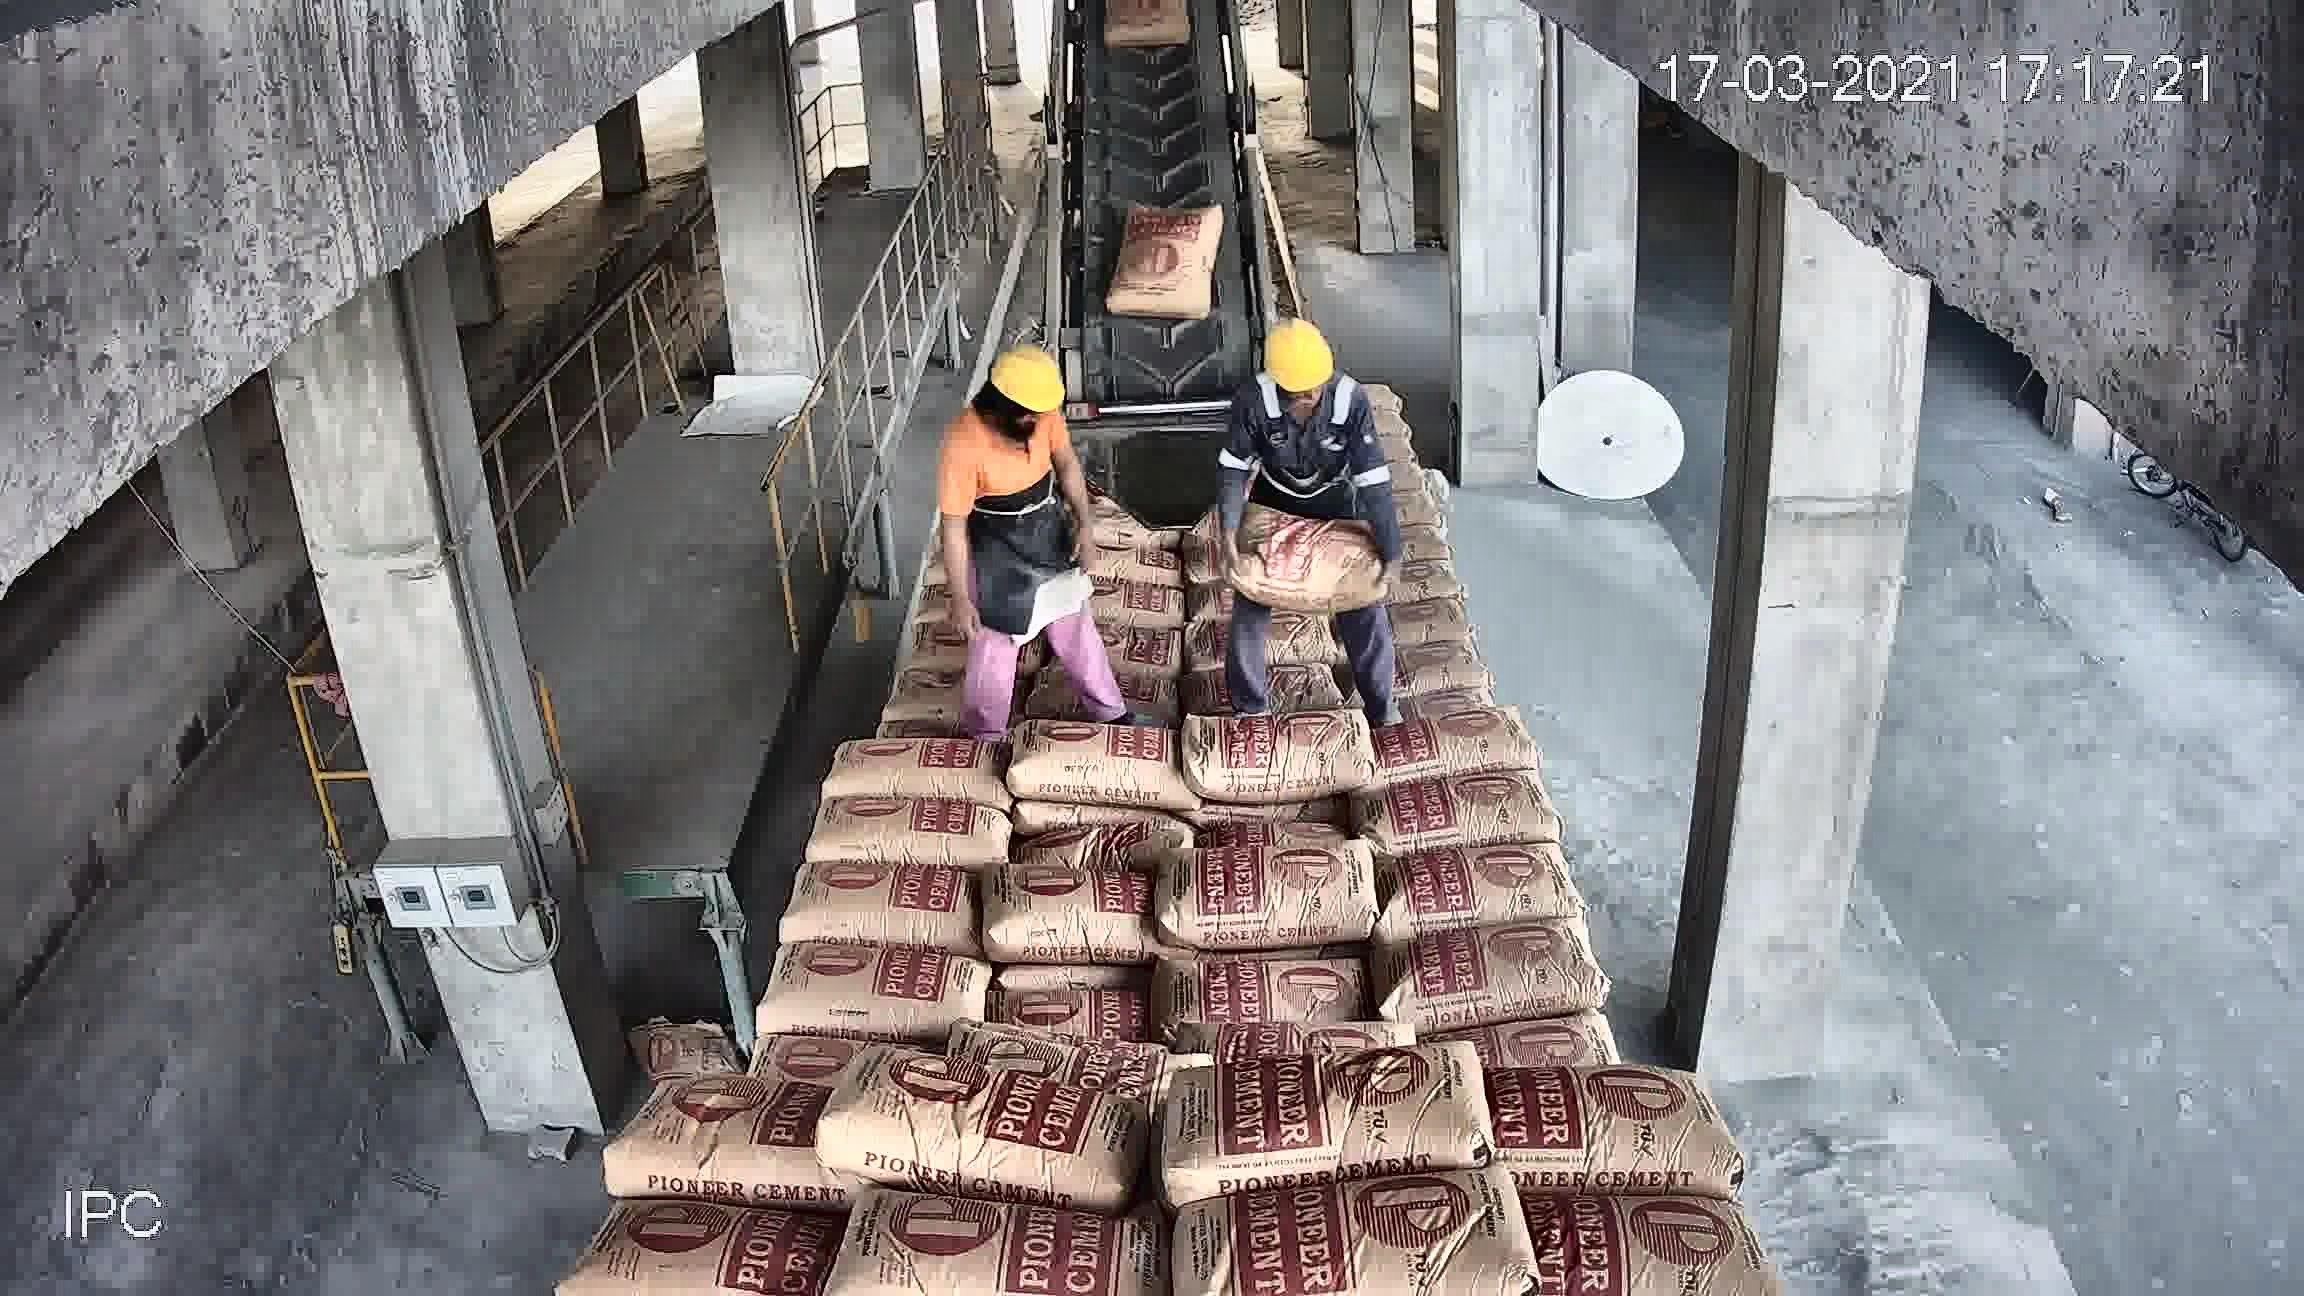bag: (1103, 207, 1215, 321)
bag_h: (1168, 1032, 1499, 1193), (1161, 1152, 1527, 1282), (798, 1062, 1135, 1195), (554, 1147, 839, 1291), (826, 1163, 1147, 1272), (600, 1067, 839, 1199), (1483, 1065, 1722, 1195), (1518, 1177, 1772, 1291), (1166, 840, 1389, 951), (761, 940, 991, 1040), (1370, 929, 1595, 1022), (1158, 948, 1366, 1043), (786, 858, 980, 954), (1377, 839, 1575, 930), (1366, 767, 1554, 861), (1188, 714, 1364, 810), (1226, 503, 1386, 609), (810, 794, 1022, 872), (817, 726, 1013, 809), (1002, 725, 1201, 805), (987, 957, 1161, 1044), (995, 870, 1155, 964), (1361, 707, 1540, 786), (962, 1032, 1180, 1086), (1182, 604, 1332, 680), (1022, 666, 1176, 723), (1070, 571, 1196, 633), (1372, 642, 1505, 699), (1081, 536, 1196, 598), (1374, 593, 1476, 658), (888, 669, 964, 729)
belt: (1035, 51, 1272, 464)
